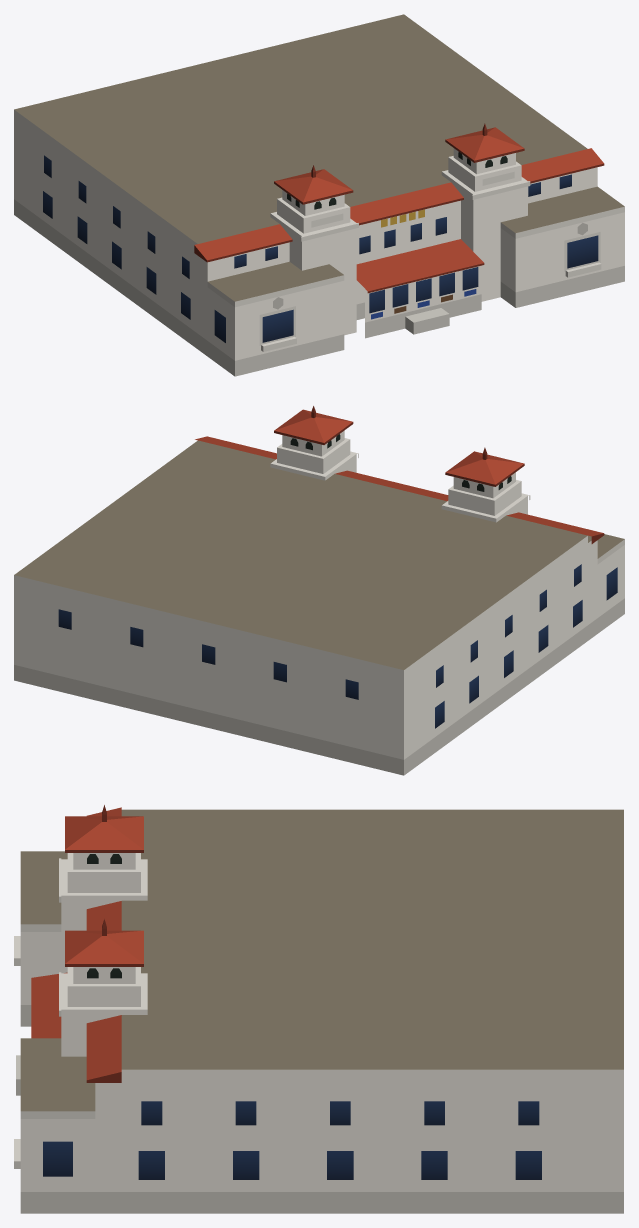
The model's file is ozark.glb.
The picture shows the model from 3 angles, top to bottom: view 1: azimuth 30°, elevation 25°; view 2: azimuth 150°, elevation 25°; view 3: azimuth 270°, elevation 25°; orthographic projection. The views are drawn at different scales.
Visible parts, largest first — view 1: Ozark; view 2: Ozark; view 3: Ozark.
Part boxes in pixels (x1,y1,x2,y2): Ozark: (14,14,624,376); Ozark: (14,406,624,775); Ozark: (14,805,623,1213).
Bounding box in the file's own units: 33.21 × 13 × 32.41.
